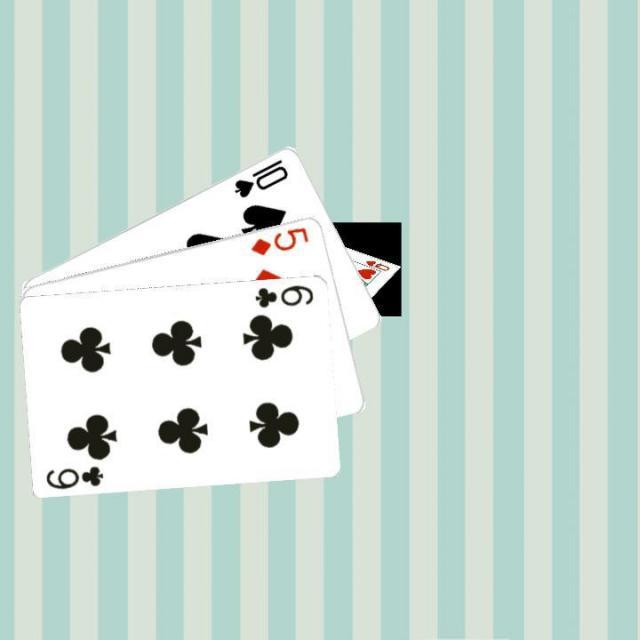10S: (230, 154, 290, 200)
5D: (247, 222, 311, 257)
6C: (252, 280, 316, 310), (42, 461, 106, 491)
